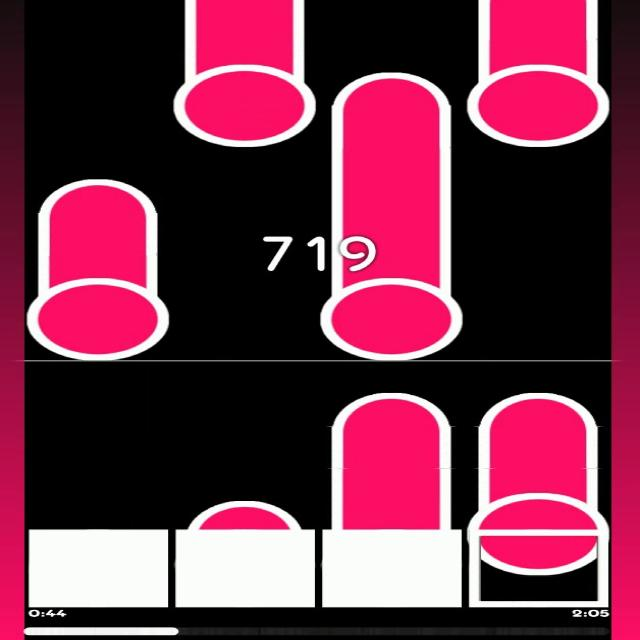end_hold: (25, 155, 172, 225), (324, 52, 456, 126), (323, 370, 460, 433), (473, 372, 603, 432), (178, 478, 310, 531)
start_hold: (319, 253, 461, 363), (172, 41, 316, 148), (29, 259, 168, 361), (468, 48, 608, 148), (468, 478, 608, 576)
